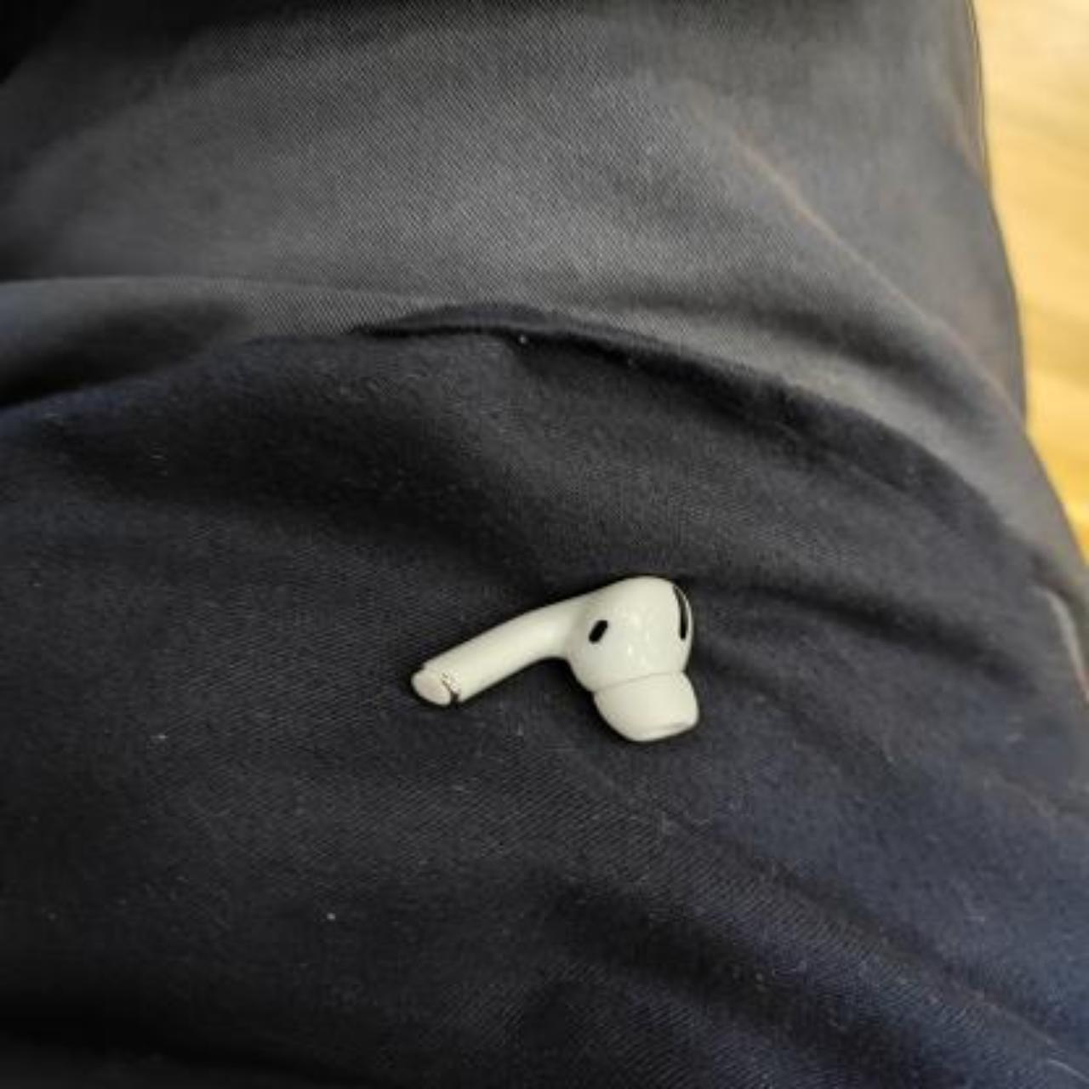Airpods_Units: (371, 563, 776, 756)
